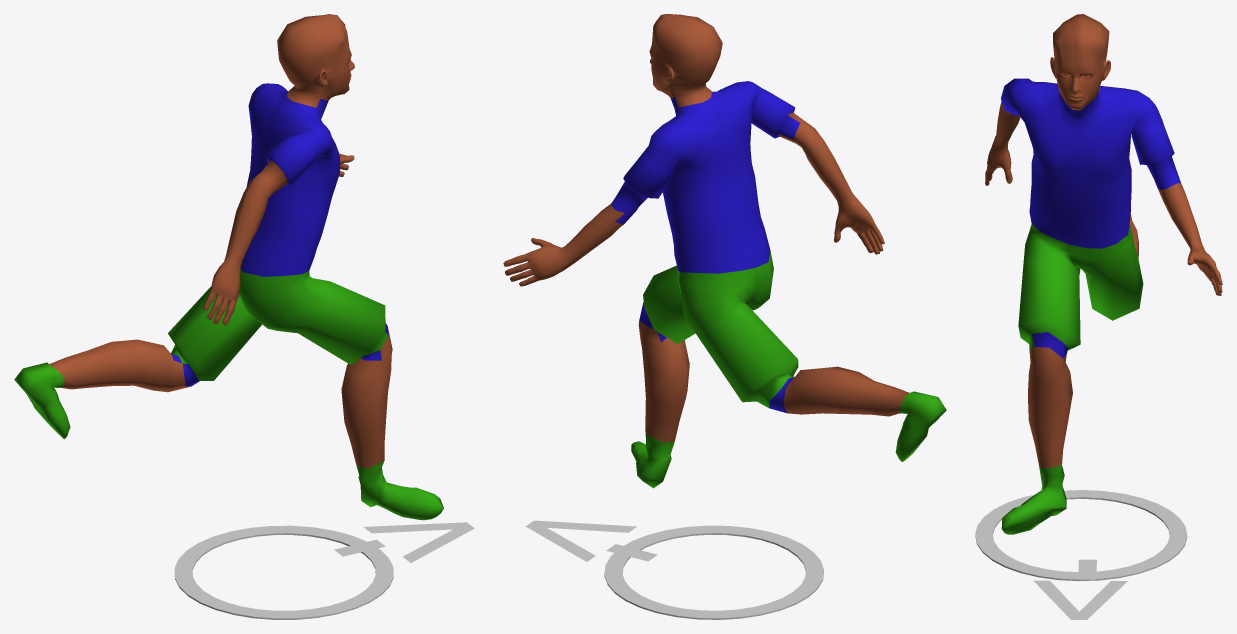
The model's file is playerAI_000015.obj.
The picture shows the model from 3 angles, left to right: view 1: azimuth 30°, elevation 25°; view 2: azimuth 150°, elevation 25°; view 3: azimuth 270°, elevation 25°; orthographic projection. The views are drawn at different scales.
Parts seen in each view (by area): view 1: soccerplayer.003_mesh.002, Circle.001, Text_Mesh; view 2: soccerplayer.003_mesh.002, Circle.001, Text_Mesh; view 3: soccerplayer.003_mesh.002, Circle.001, Text_Mesh.
Boxes of the visible parts, x1,y1,x2,y2 form: soccerplayer.003_mesh.002: (14,14,443,520); Circle.001: (174,525,393,619); Text_Mesh: (334,522,474,562); soccerplayer.003_mesh.002: (503,14,946,488); Circle.001: (604,525,823,619); Text_Mesh: (526,520,657,561); soccerplayer.003_mesh.002: (985,14,1222,534); Circle.001: (975,490,1187,581); Text_Mesh: (1033,559,1127,619).
Size of the model in its own units: 2.46 by 2.99 by 1.27.
